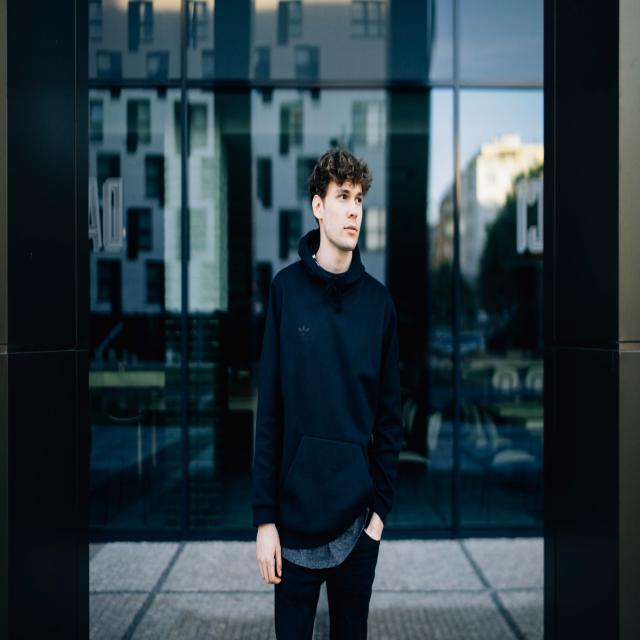adult: (255, 149, 406, 640)
